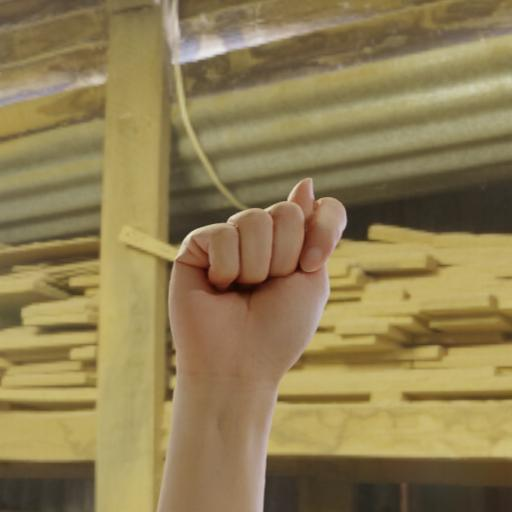T: (148, 163, 368, 412)
